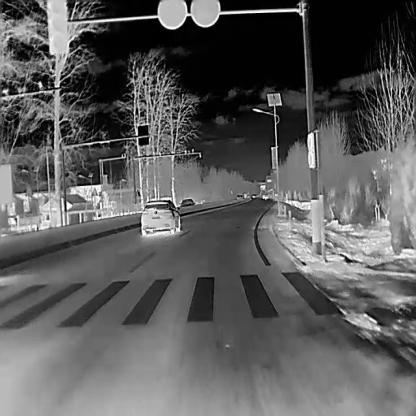car: (140, 199, 180, 237), (180, 198, 196, 208), (262, 193, 269, 199), (236, 193, 242, 199), (252, 194, 256, 198), (243, 192, 246, 197), (246, 195, 249, 198)
